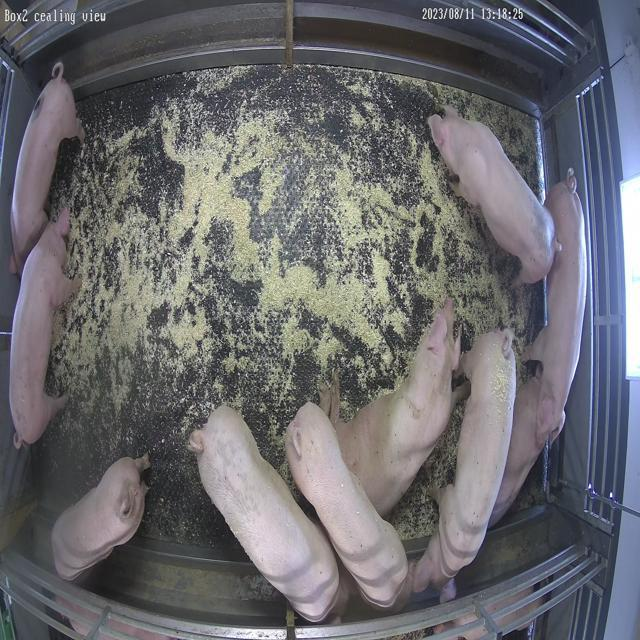Pig: (189, 407, 340, 623), (414, 329, 517, 605), (334, 300, 462, 516), (286, 403, 409, 608), (429, 106, 556, 284), (9, 209, 78, 448), (10, 62, 84, 270), (531, 177, 587, 442), (51, 455, 150, 582), (491, 375, 546, 526), (320, 374, 340, 422)
